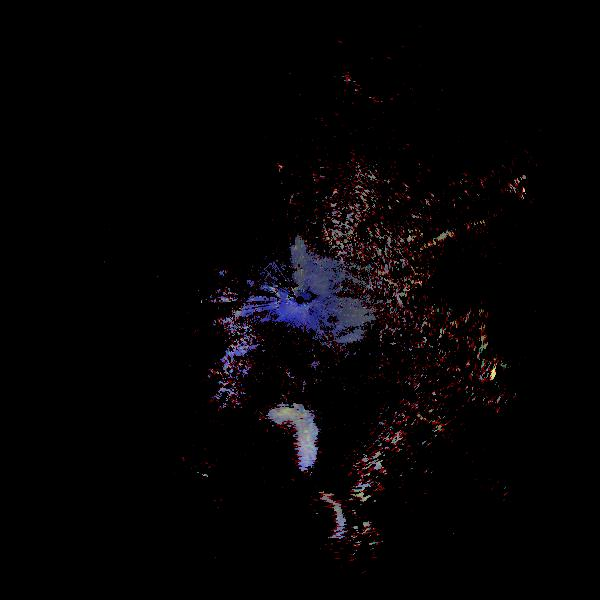roost: (251, 404, 323, 476), (286, 488, 355, 557)
